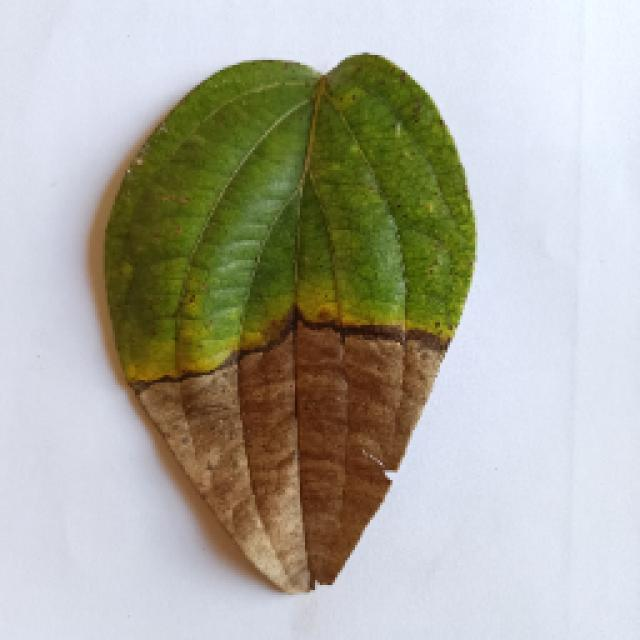footrot: (85, 57, 495, 595)
